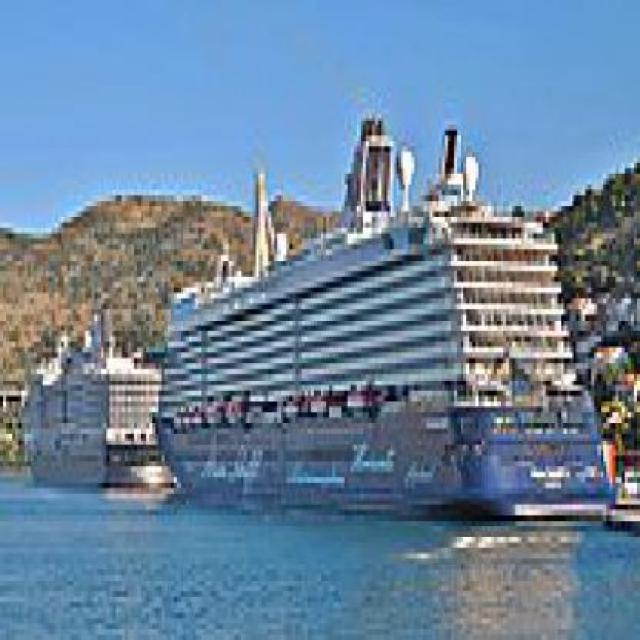cruise: (154, 110, 623, 550), (19, 300, 175, 506)
